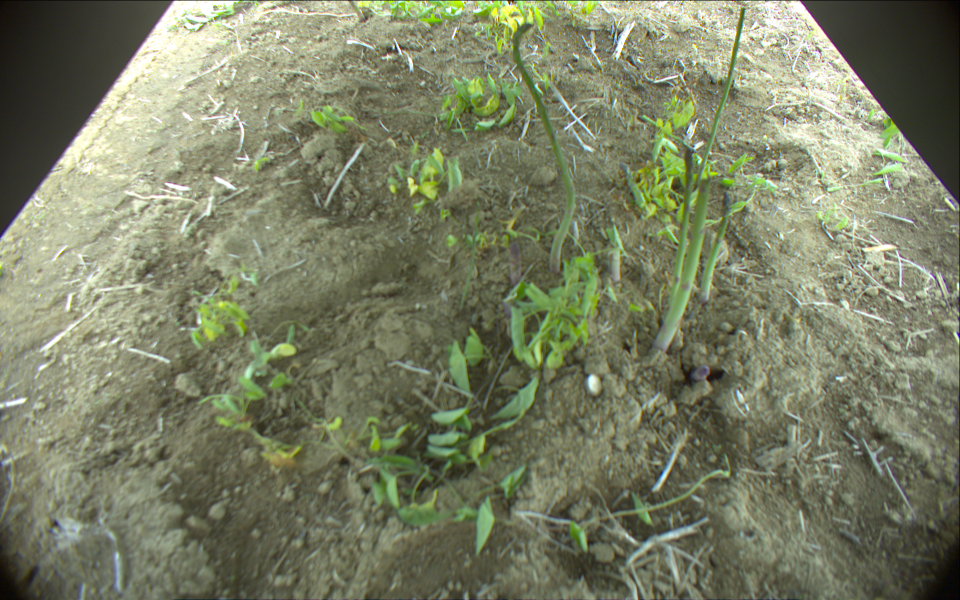aspa: (507, 19, 578, 274), (689, 6, 749, 193), (654, 177, 712, 353), (670, 145, 697, 301), (700, 195, 732, 301), (620, 156, 647, 208), (605, 218, 625, 280), (508, 234, 527, 288), (346, 1, 364, 18)
